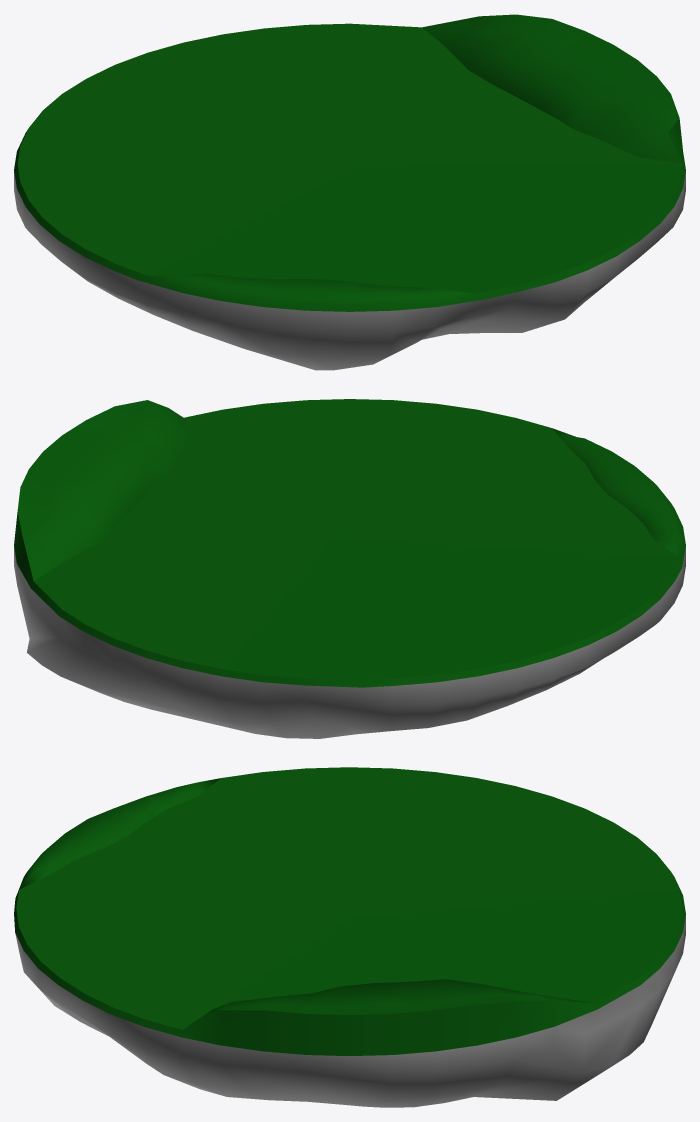
The model's file is TerrainDemo.FBX.
3 views of the same model, one above another, from view 1: azimuth 30°, elevation 25°; view 2: azimuth 150°, elevation 25°; view 3: azimuth 270°, elevation 25° (orthographic).
Visible parts, largest first — view 1: Box002, Box001; view 2: Box002, Box001; view 3: Box002, Box001.
Part boxes in pixels (x1,y1,x2,y2): Box002: (14, 14, 685, 311); Box001: (14, 171, 685, 370); Box002: (14, 399, 685, 687); Box001: (14, 546, 685, 738); Box002: (14, 767, 685, 1055); Box001: (15, 915, 685, 1107).
Bounding box in the file's own units: 511 × 155 × 510.
